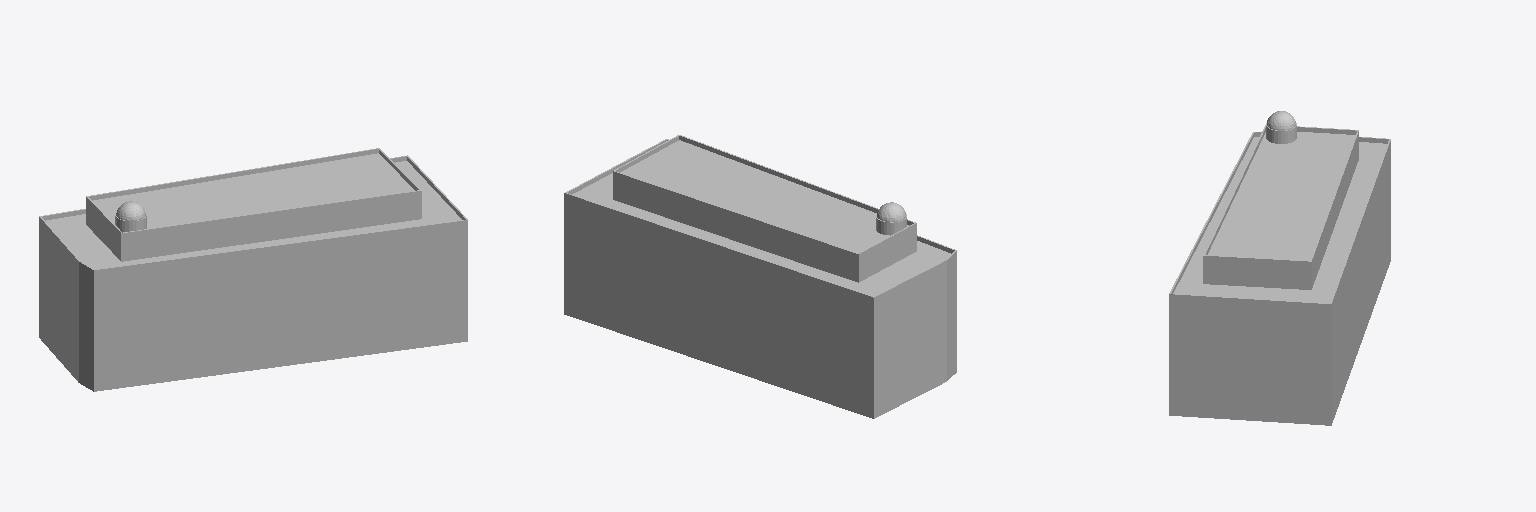
The model's file is lab_3.obj.
3 renders of one model, left to right at view 1: azimuth 30°, elevation 25°; view 2: azimuth 150°, elevation 25°; view 3: azimuth 270°, elevation 25°, orthographic.
Visible parts, largest first — view 1: object_1; view 2: object_1; view 3: object_1.
Part boxes in pixels (left/top/right/bottom): object_1: left=39, top=148, right=467, bottom=391; object_1: left=564, top=135, right=956, bottom=418; object_1: left=1169, top=111, right=1390, bottom=425.
Size of the model in its own units: 248 by 111 by 134.